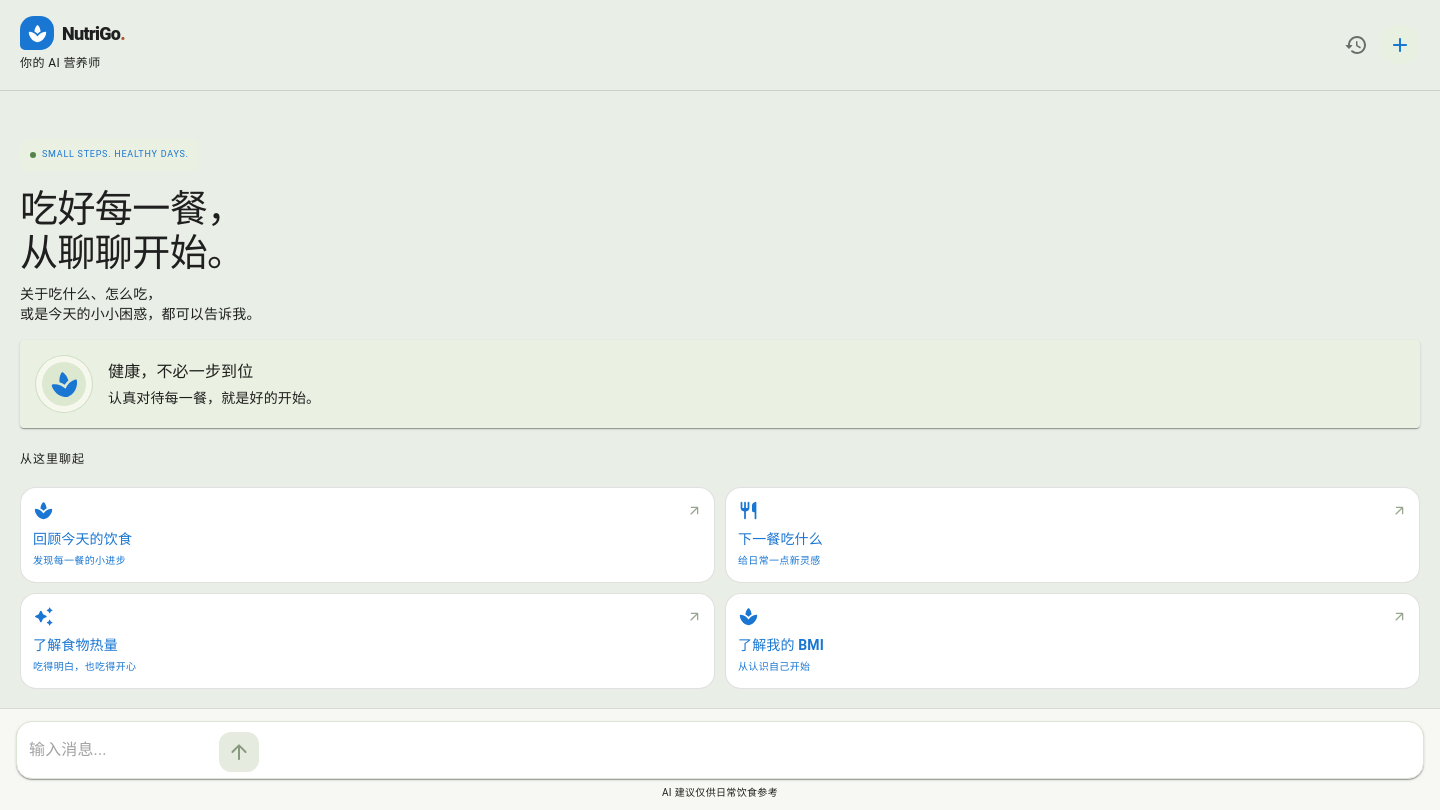
Scenario: Chat 页面 › 流式回复分段收到多个波浪号时，已显示内容不会变为删除线
The width and height of the screenshot is (1440, 810).
Type "请说明数值范围" into the text box with placeholder "输入消息..." at coordinates (120, 750), box [29,728,211,772]
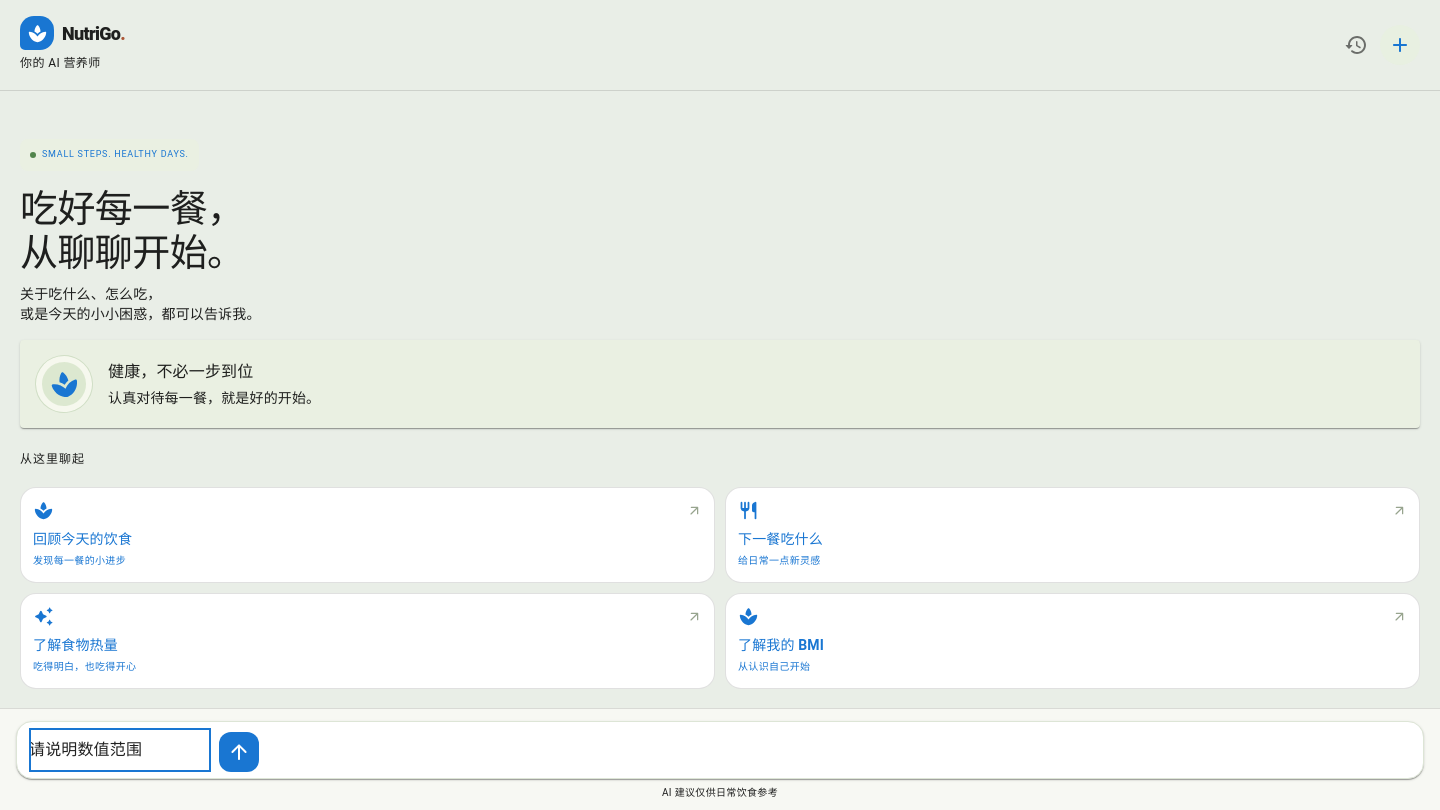
Click the button named "发送" at coordinates (239, 752), box [219,732,259,772]
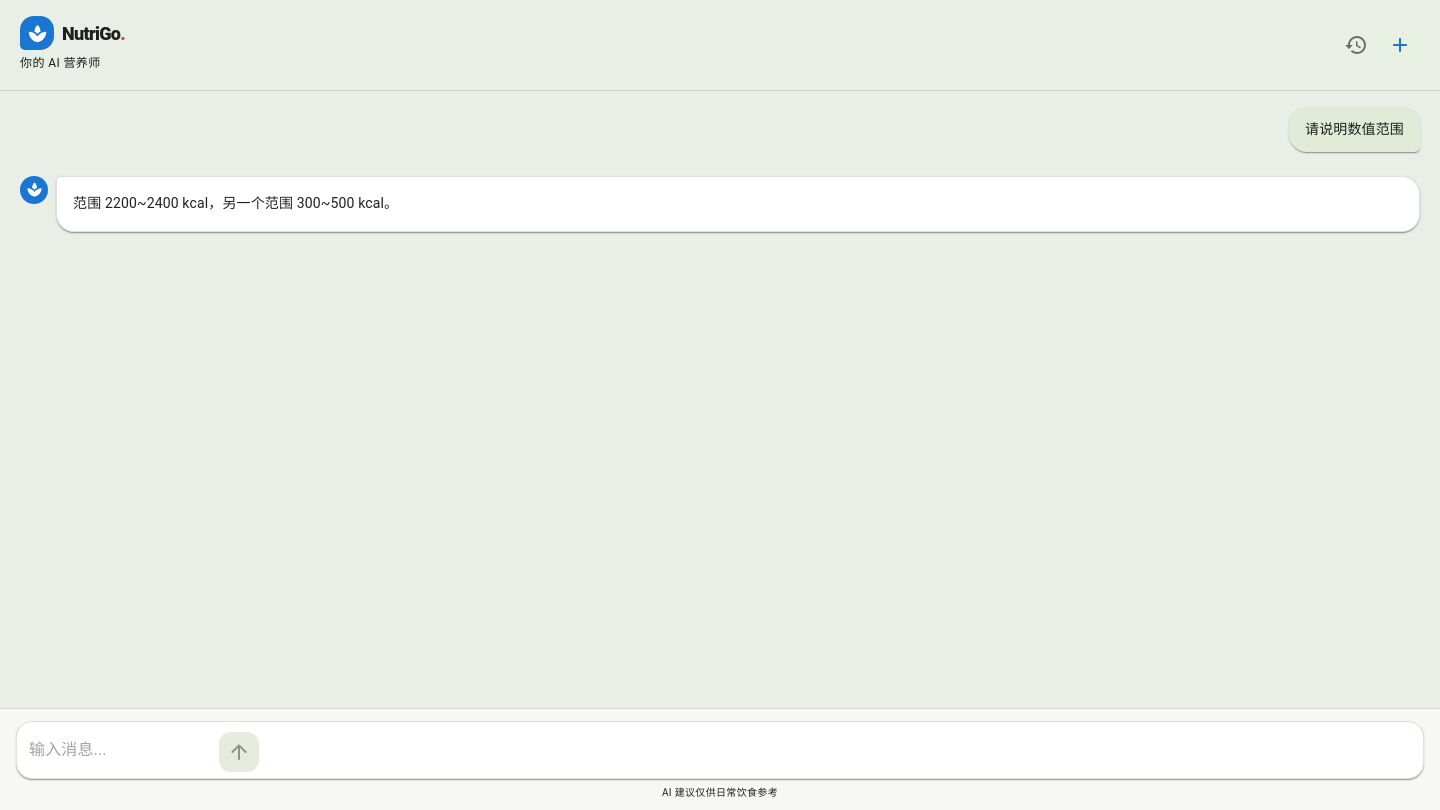
Check: the element with class "markdown-body" shows "范围 2200~", box [73,195,398,211]
